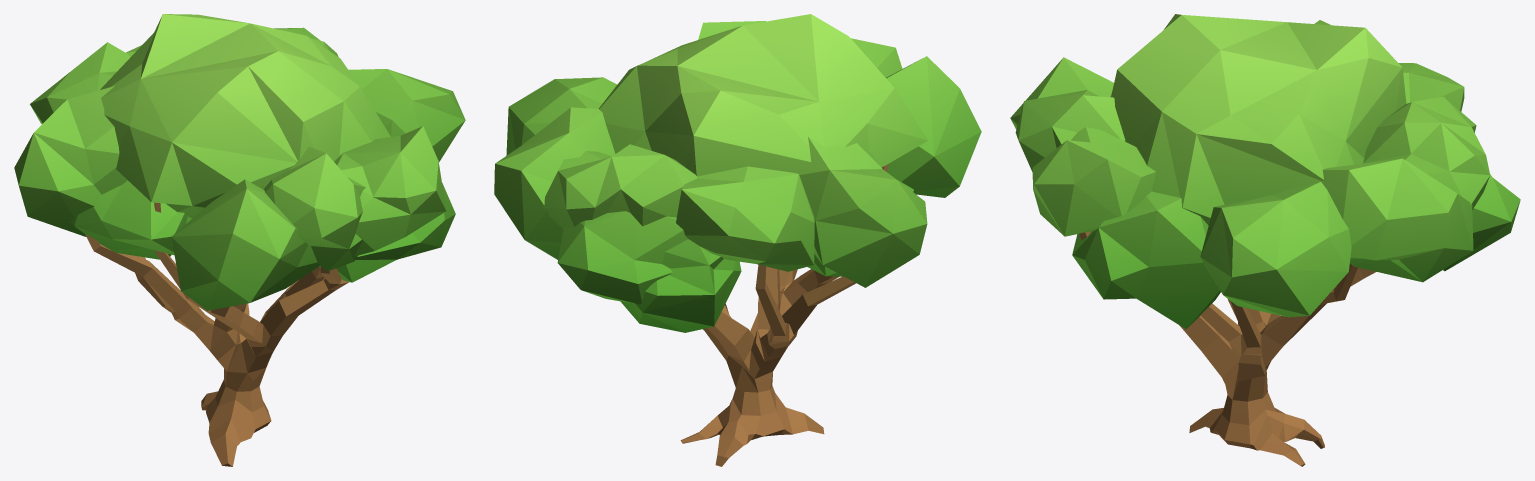
The model's file is LP_Tree_04.fbx.
The picture shows the model from 3 angles, left to right: view 1: azimuth 30°, elevation 25°; view 2: azimuth 150°, elevation 25°; view 3: azimuth 270°, elevation 25°; orthographic projection. The views are drawn at different scales.
Visible parts, largest first — view 1: LP_Tree_04_LOD0; view 2: LP_Tree_04_LOD0; view 3: LP_Tree_04_LOD0.
Part boxes in pixels (box(x1,y1,x2,y2)): LP_Tree_04_LOD0: box(14, 14, 465, 466); LP_Tree_04_LOD0: box(494, 14, 981, 466); LP_Tree_04_LOD0: box(1010, 14, 1520, 466).
Size of what is drawn, in the model's own units: 7.58 by 6.89 by 7.51.
